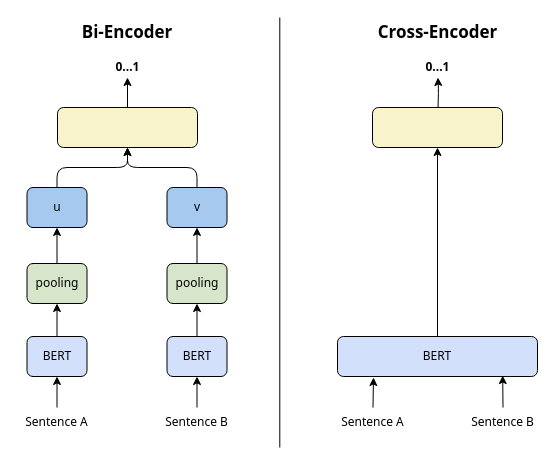
Image size: 555x466. Some labels were removed from this diagram. The box of each missing label's shape, as (x1, y1, x2, y2) in pixels:
Classifier: (372, 106, 502, 148)
Cosine-Similarity: (56, 106, 198, 148)
